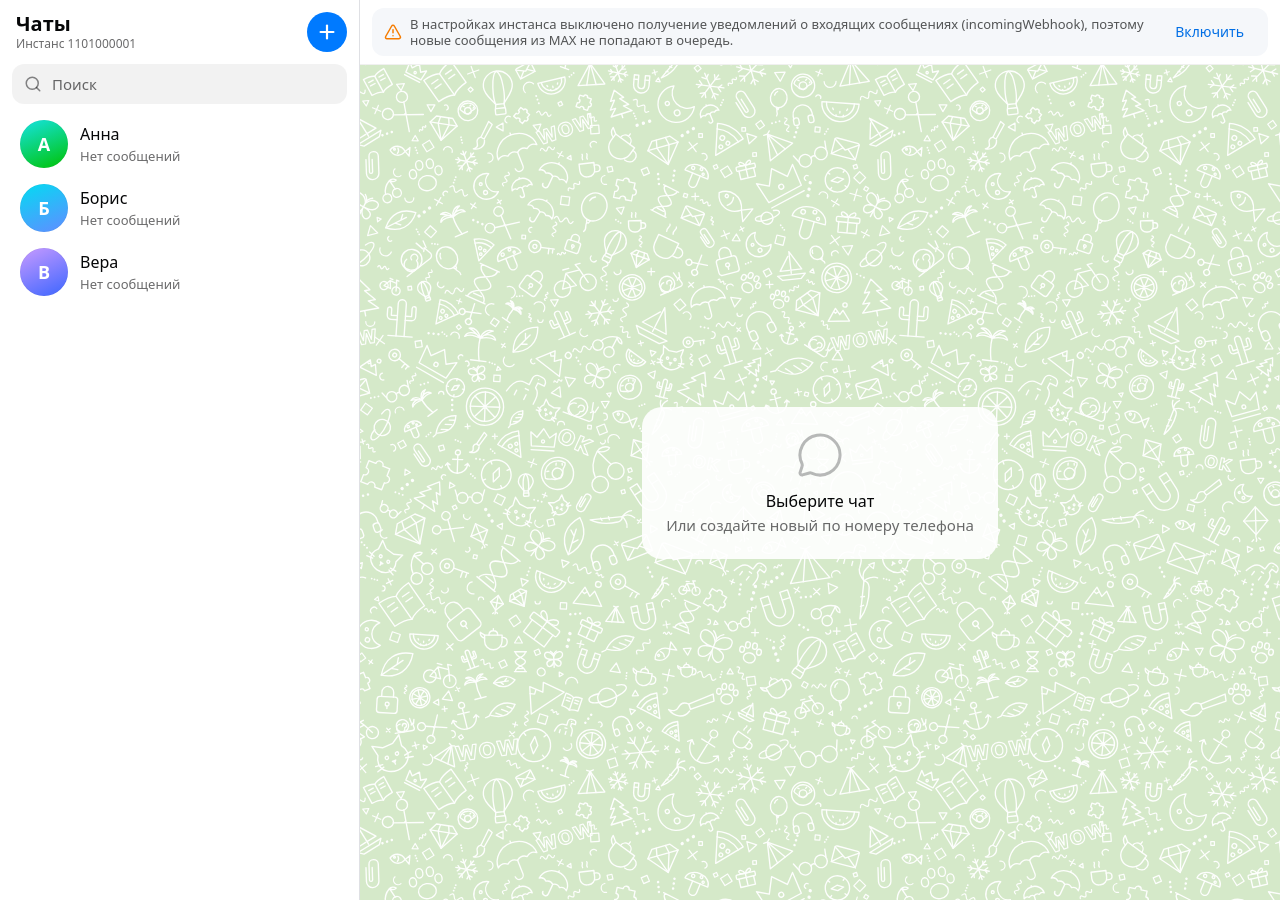
Test: ChatPage: настройки приёма сообщений › объясняет, почему не приходят сообщения из MAX, и включает нужные уведомления
Check: the text "выключено получение уведомлений о входящих" is shown, box [410,15,1144,49]
Click the button "Включить" at (1210, 32), box [1163,16,1256,48]
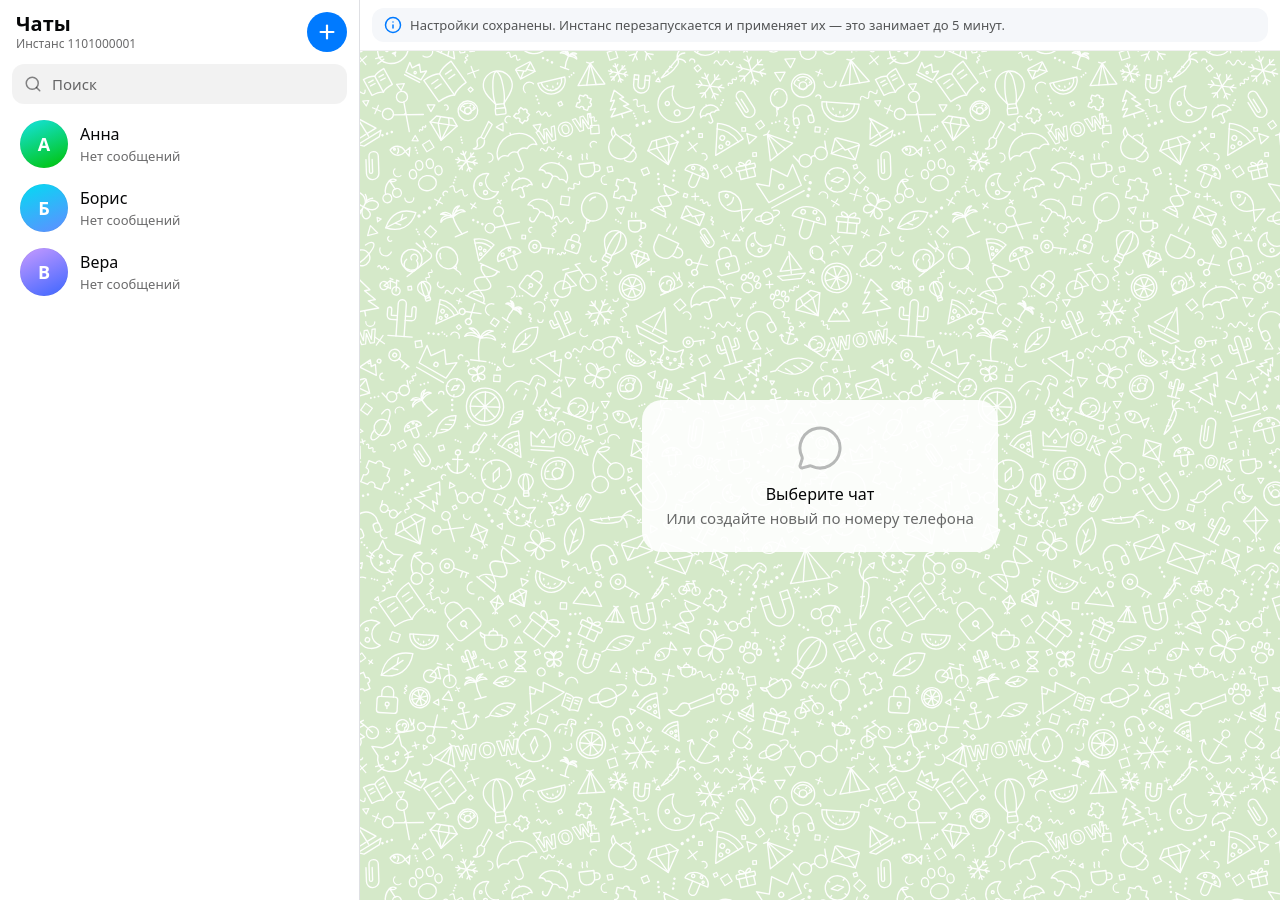
Check: the text "Настройки сохранены" is shown, box [410,16,1005,34]
Check: the text "выключено получение уведомлений" is gone
